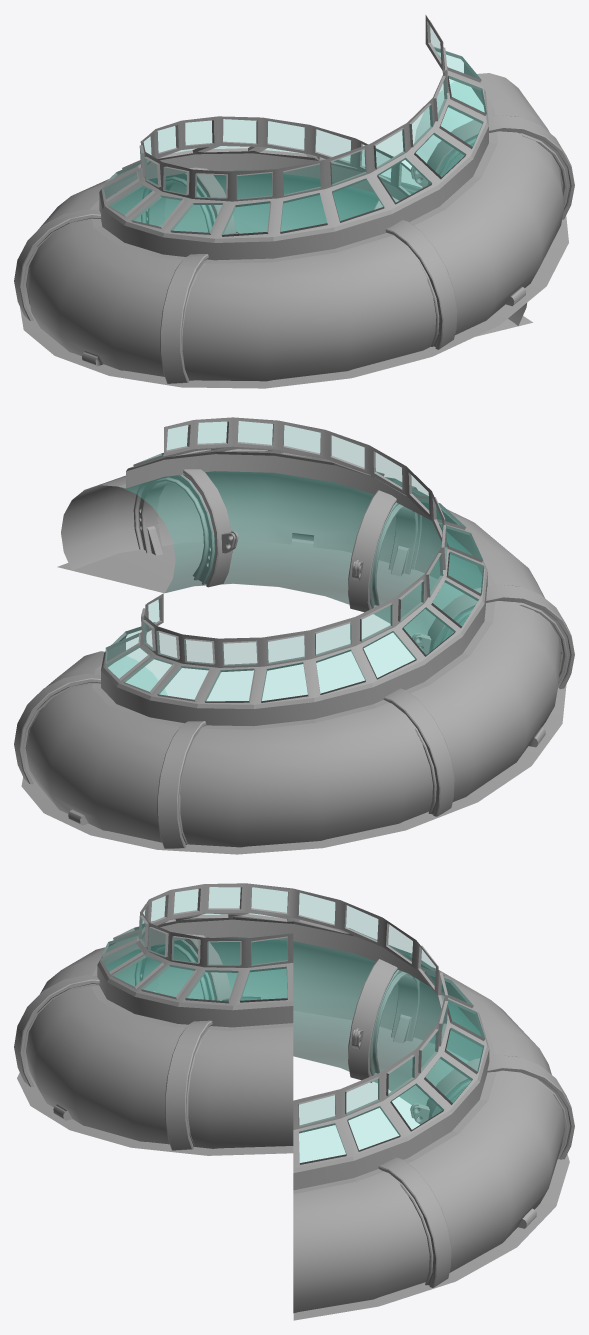
The model's file is tou_kari.fbx.
The picture shows the model from 3 angles, top to bottom: view 1: azimuth 30°, elevation 25°; view 2: azimuth 150°, elevation 25°; view 3: azimuth 270°, elevation 25°; orthographic projection.
Parts seen in each view (by area): view 1: polySurface96, polySurface99, transform10_7, polySurface31, polySurface22; view 2: polySurface96, polySurface31, transform10_7, polySurface99, polySurface22; view 3: polySurface96, polySurface99, polySurface31, transform10_7, polySurface22.
Boxes of the visible parts, bbox=[...] form: polySurface96: bbox=[26, 15, 564, 381]; polySurface99: bbox=[103, 27, 486, 234]; transform10_7: bbox=[14, 115, 574, 383]; polySurface31: bbox=[112, 81, 483, 232]; polySurface22: bbox=[20, 215, 568, 388]; polySurface96: bbox=[26, 417, 561, 847]; polySurface31: bbox=[108, 471, 481, 694]; transform10_7: bbox=[14, 469, 574, 848]; polySurface99: bbox=[105, 421, 483, 700]; polySurface22: bbox=[21, 541, 566, 854]; polySurface96: bbox=[26, 883, 564, 1313]; polySurface99: bbox=[101, 887, 484, 1162]; polySurface31: bbox=[106, 937, 481, 1115]; transform10_7: bbox=[14, 934, 574, 1287]; polySurface22: bbox=[17, 1010, 569, 1320].
Bounding box in the file's own units: 17.48 × 11.68 × 17.74.
